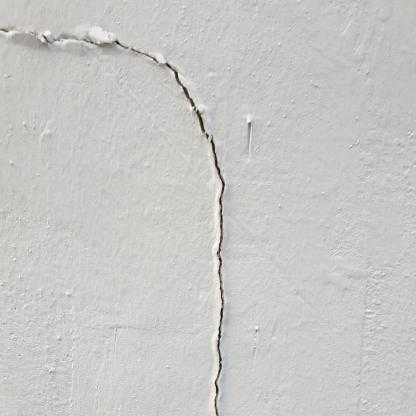crack: (210, 135, 226, 415), (165, 62, 209, 140), (50, 34, 128, 49), (130, 47, 159, 65), (42, 34, 49, 43), (1, 28, 8, 33)
